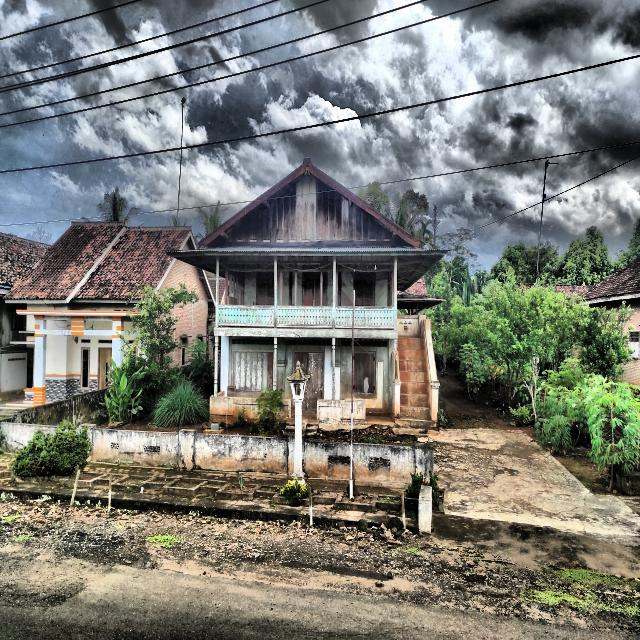column: (332, 256, 336, 329), (215, 256, 219, 327), (273, 337, 277, 398), (214, 336, 218, 396), (394, 256, 397, 330), (274, 256, 277, 328), (332, 338, 335, 400)
door: (292, 350, 324, 409), (302, 272, 328, 306)
ornamen: (218, 304, 394, 329)
roof: (165, 158, 450, 309)
stair: (397, 338, 431, 420)
wall: (220, 336, 394, 414), (227, 256, 393, 306)
window: (231, 349, 274, 393), (354, 351, 376, 395), (353, 272, 375, 306), (256, 271, 274, 305)
